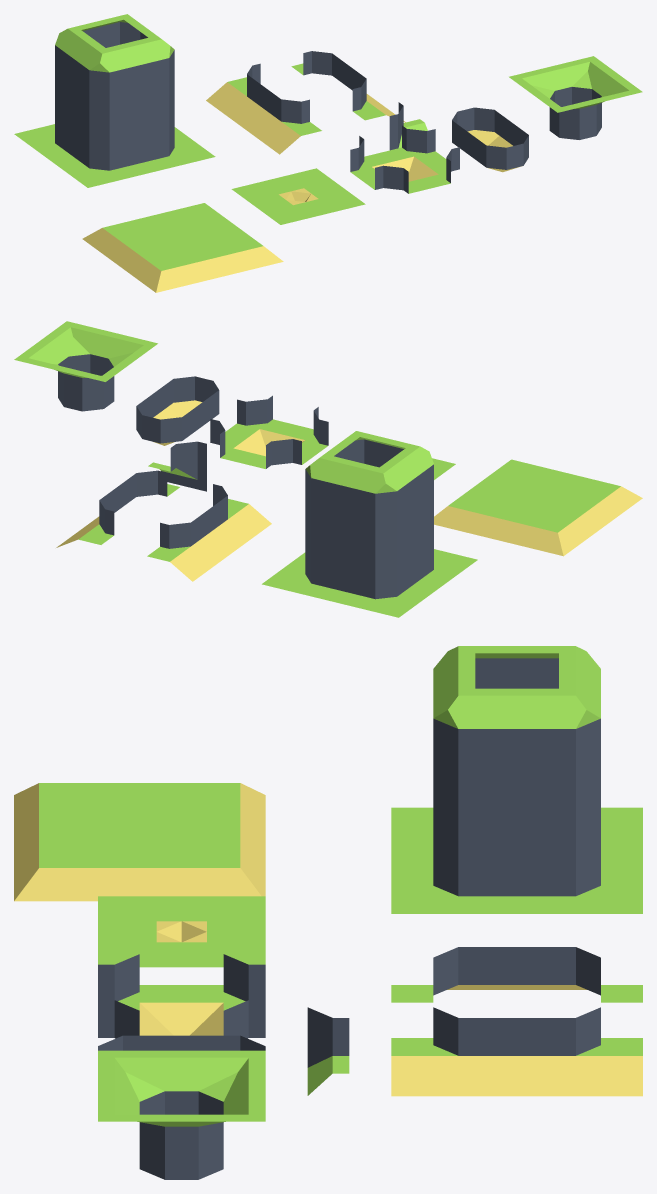
The model's file is WFC_Terrain.gltf.
The picture shows the model from 3 angles, top to bottom: view 1: azimuth 30°, elevation 25°; view 2: azimuth 150°, elevation 25°; view 3: azimuth 270°, elevation 25°; orthographic projection. The views are drawn at different scales.
Parts seen in each view (by area): view 1: GC3, C1, GCS2.001, GS2.003, GC7.003, GCS3.003, GC3.003, GS1, GC4.003, GC2.003, C2.003, GC1 (+36 smaller); view 2: GC3.002, C1.002, GCS1.001, GS2.002, GC7.002, GCS3.002, GC3.003, GS1.002, GC4.002, GC2.002, GC5, C2.002 (+34 smaller); view 3: GC3.001, CS1, C1.001, GCS1, GCS2, GC1.001, GS2, GS1.001, GC7, GC7.001, GS2.001, GC2 (+35 smaller).
Boxes of the visible parts, left/top/right/bottom form: GC3: left=106, top=37, right=160, bottom=101; C1: left=118, top=91, right=160, bottom=146; GCS2.001: left=255, top=96, right=321, bottom=154; GS2.003: left=131, top=251, right=198, bottom=292; GC7.003: left=551, top=56, right=617, bottom=98; GCS3.003: left=381, top=125, right=446, bottom=180; GC3.003: left=60, top=30, right=105, bottom=97; GS1: left=174, top=241, right=240, bottom=282; GC4.003: left=84, top=48, right=118, bottom=103; GC2.003: left=63, top=143, right=129, bottom=187; C2.003: left=84, top=98, right=118, bottom=148; GC1: left=118, top=136, right=172, bottom=177; GC3.002: left=320, top=456, right=378, bottom=524; C1.002: left=320, top=514, right=366, bottom=572; GCS1.001: left=147, top=519, right=218, bottom=581; GS2.002: left=518, top=511, right=589, bottom=556; GC7.002: left=40, top=321, right=111, bottom=367; GCS3.002: left=225, top=395, right=295, bottom=455; GC3.003: left=380, top=448, right=428, bottom=520; GS1.002: left=472, top=500, right=543, bottom=544; GC4.002: left=366, top=467, right=402, bottom=527; GC2.002: left=353, top=569, right=424, bottom=617; GC5: left=148, top=441, right=206, bottom=491; C2.002: left=366, top=521, right=402, bottom=575; GC3.001: left=475, top=688, right=558, bottom=782; CS1: left=475, top=1018, right=558, bottom=1096; C1.001: left=475, top=782, right=558, bottom=858; GCS1: left=391, top=1007, right=475, bottom=1096; GCS2: left=559, top=1007, right=642, bottom=1096; GC1.001: left=475, top=858, right=558, bottom=913; GS2: left=14, top=843, right=97, bottom=901; GS1.001: left=98, top=843, right=181, bottom=896; GC7: left=181, top=1050, right=265, bottom=1114; GC7.001: left=98, top=1050, right=181, bottom=1114; GS2.001: left=181, top=843, right=265, bottom=896; GC2: left=391, top=848, right=475, bottom=913.
Bounding box in the file's own units: 24 × 6 × 15.
